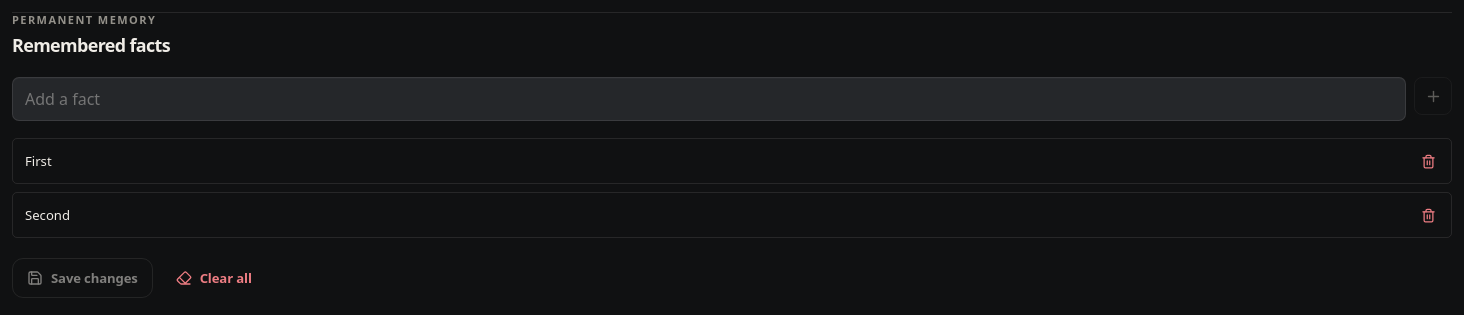
Scenario: MemoryPanel unsaved changes › keeps Save disabled and quiet until something changes
The width and height of the screenshot is (1464, 315).
Expected: the button "Save changes" is disabled, [12,258,153,298]
In the field named "Memory 1": point(714, 161) [21,148,1406,175], type "!"
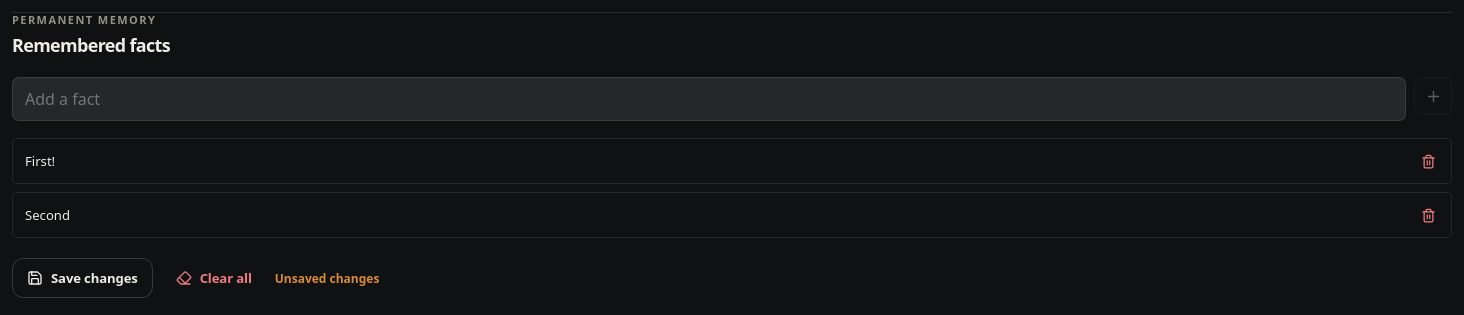
Now the button "Save changes" is enabled, box [12,258,153,298]
Now the message reads "Unsaved changes", box [275,270,380,287]
